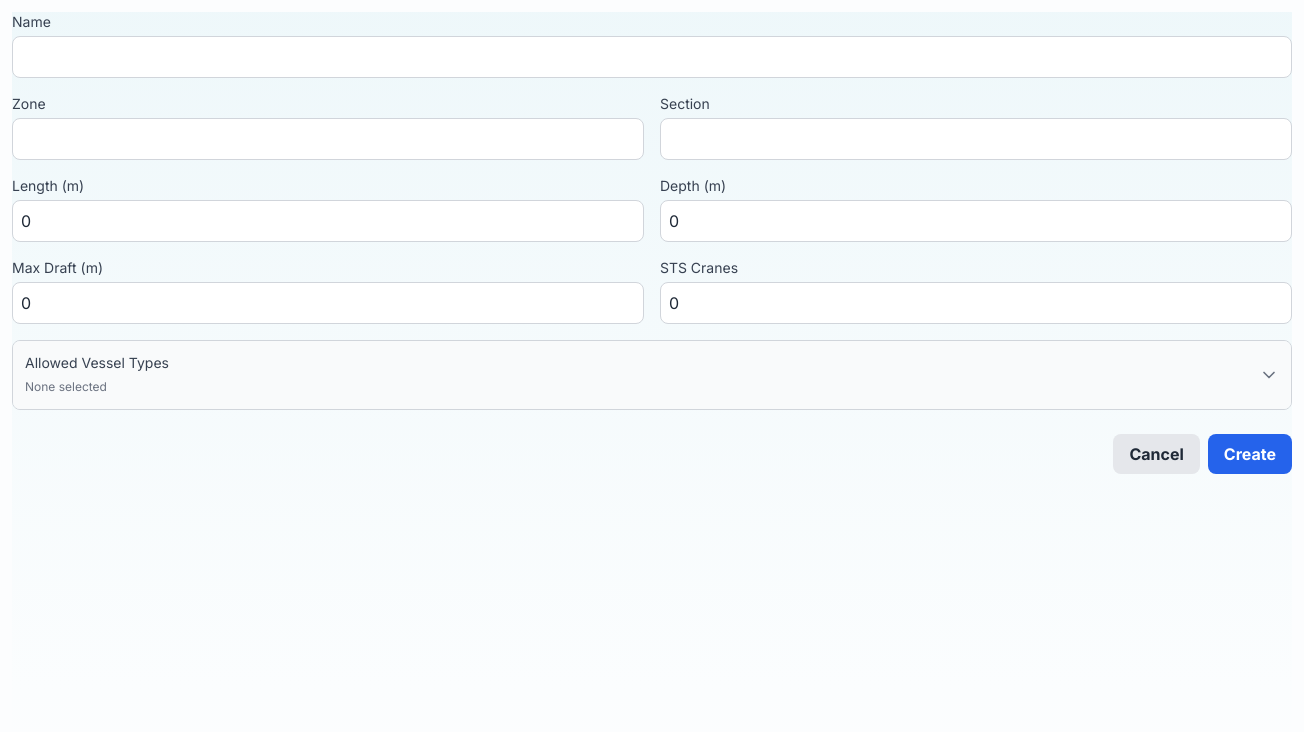
Test: DockForm Component › displays error message on submission failure
Preencher o mínimo necessário para o HTML validation passar
In the field labelled "Name": [652, 57] box [12,36,1292,78], type "Fail Dock"
In the field labelled "Zone": [328, 139] box [12,118,644,160], type "Z"
In the field labelled "Section": [976, 139] box [660,118,1292,160], type "S"
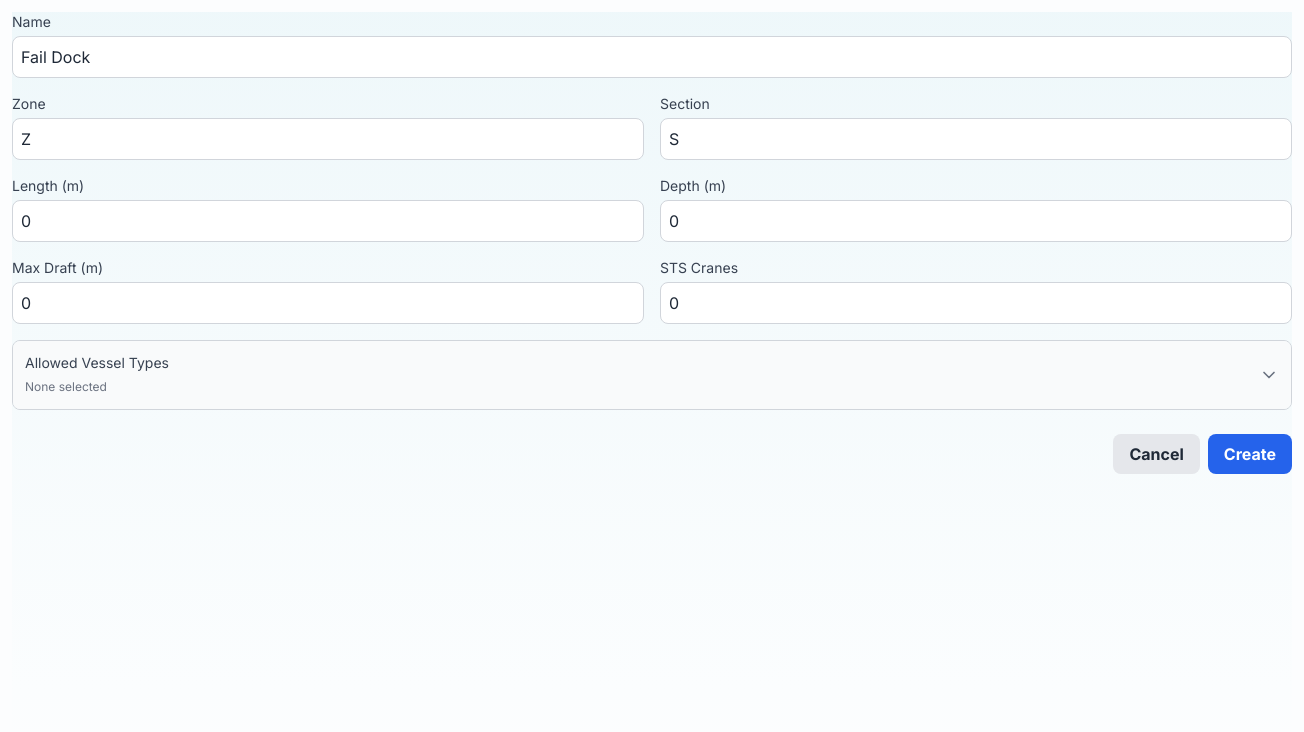
Replace the text in the number field labelled "Length (m)" with "10": [328, 221] box [12,200,644,242]
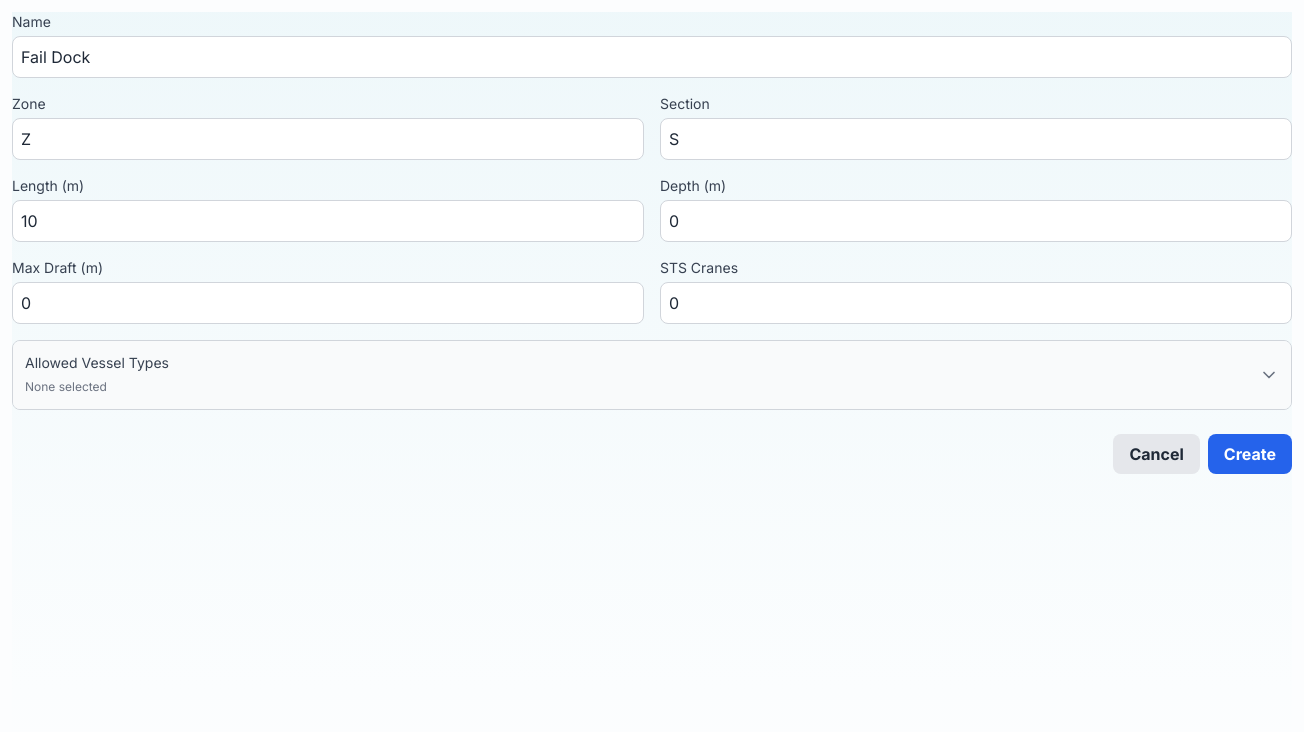
Replace the text in the number field labelled "Depth (m)" with "10": [976, 221] box [660,200,1292,242]
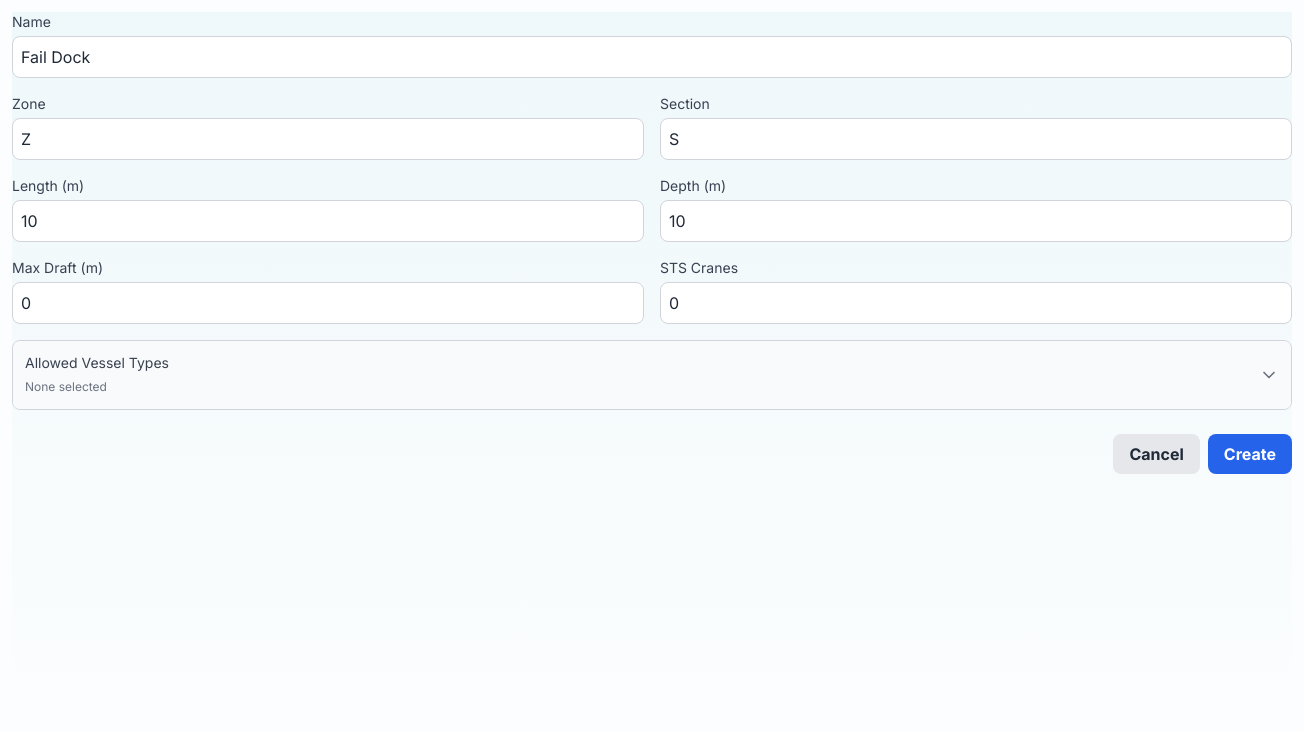
Replace the text in the number field labelled "Max Draft (m)" with "10": [328, 303] box [12,282,644,324]
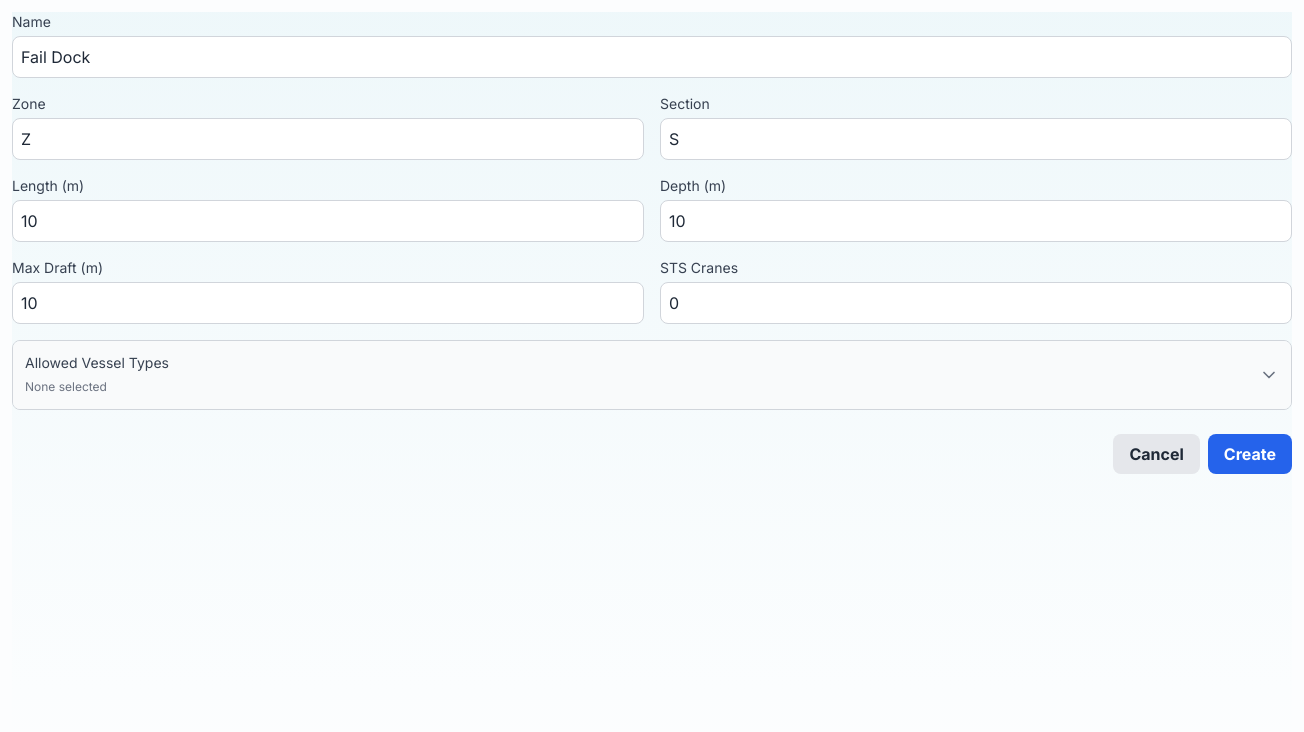
Replace the text in the number field labelled "STS Cranes" with "1": [976, 303] box [660,282,1292,324]
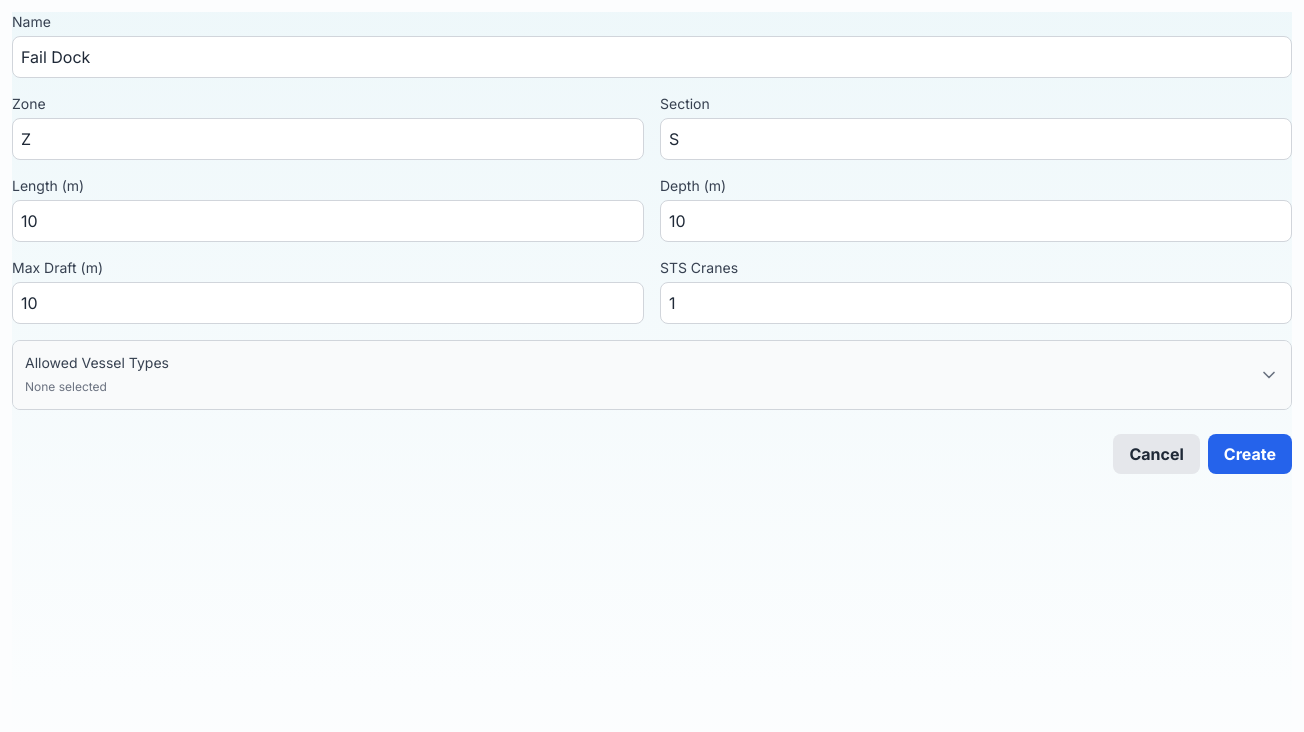
Click the button "Create": [1250, 454] box [1208,434,1292,474]
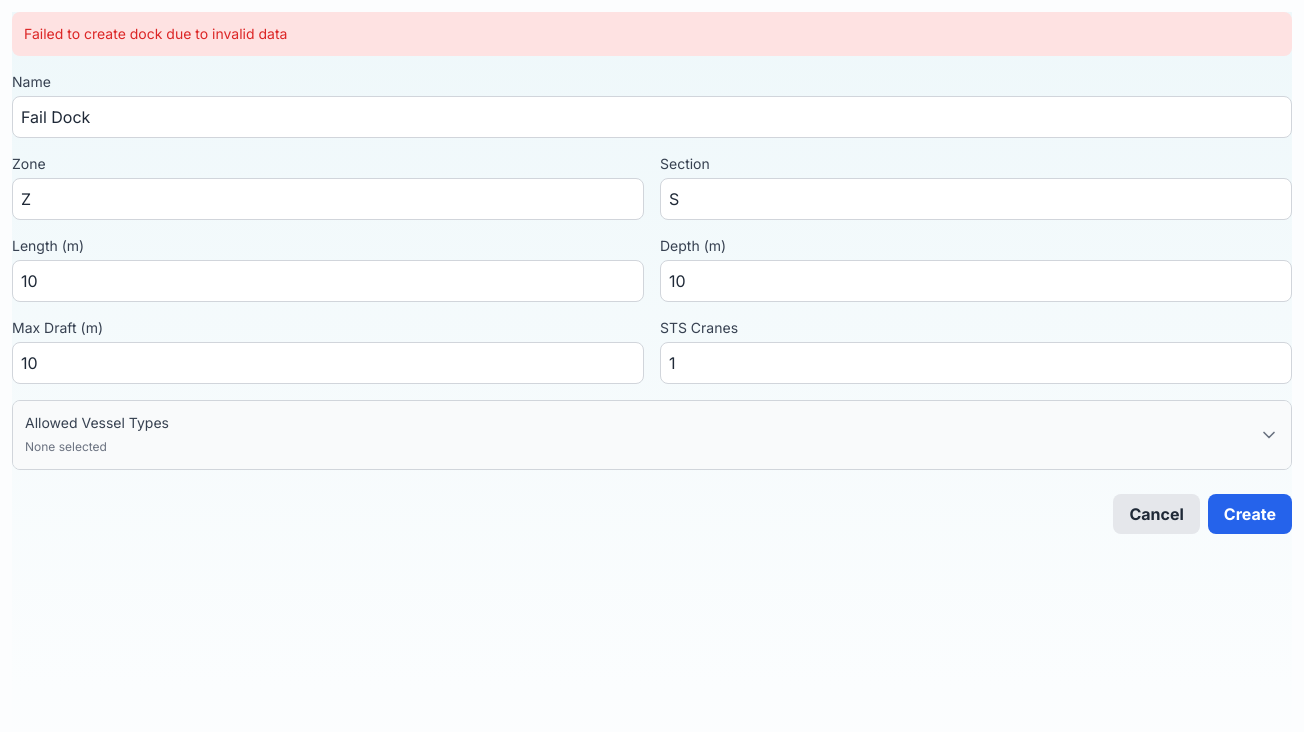
Expected: the text "Failed to create dock due to invalid data" is shown, [12,12,1292,56]
